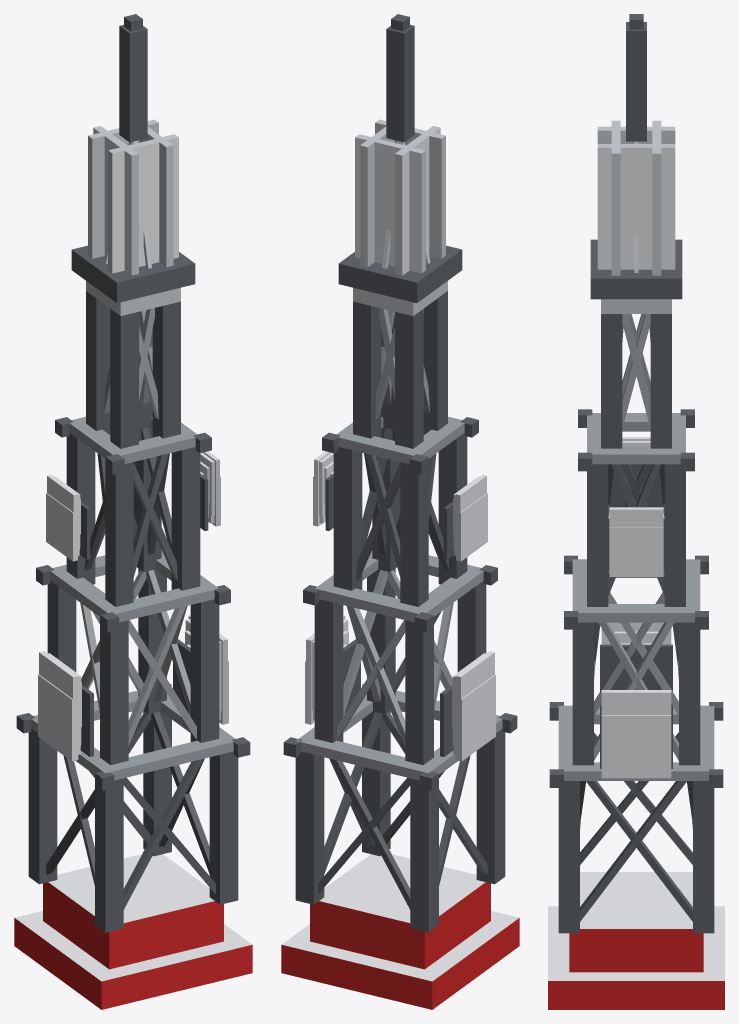
The model's file is link_antenna.obj.
3 views of the same model, side by side, from view 1: azimuth 30°, elevation 25°; view 2: azimuth 150°, elevation 25°; view 3: azimuth 270°, elevation 25° (orthographic).
Visible parts, largest first — view 1: tower; view 2: tower; view 3: tower.
Boxes of the visible parts, x1,y1,x2,y2 form: tower: (14, 14, 252, 1009); tower: (281, 14, 519, 1009); tower: (548, 14, 724, 1009).
Size of the model in its own units: 1.04 by 5.96 by 1.
